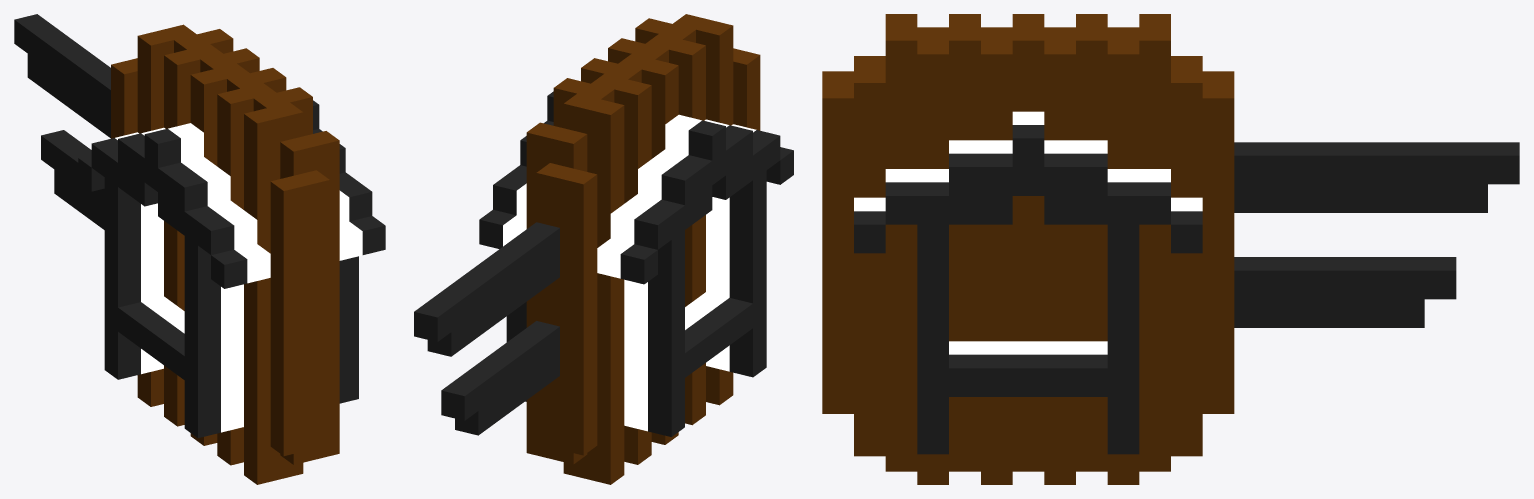
File: udonSign.glb
3 renders of one model, left to right at view 1: azimuth 30°, elevation 25°; view 2: azimuth 150°, elevation 25°; view 3: azimuth 270°, elevation 25°, orthographic. The views are drawn at different scales.
Visible parts, largest first — view 1: ObjObject; view 2: ObjObject; view 3: ObjObject.
Part boxes in pixels (x1,y1,x2,y2): ObjObject: (14, 14, 385, 484); ObjObject: (414, 14, 793, 484); ObjObject: (822, 14, 1519, 484).
Size of the model in its own units: 0.7 by 1.5 by 2.2.
2 materials, 1 textured.
